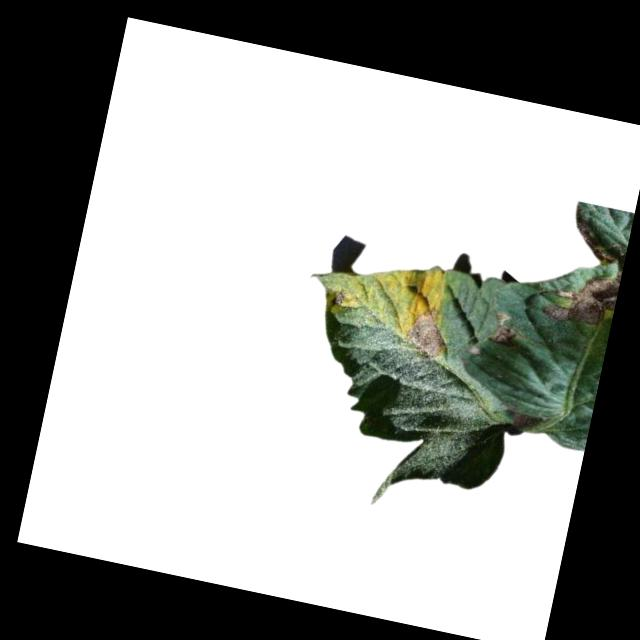Early_blight: (540, 213, 631, 332), (397, 296, 455, 363), (487, 308, 524, 352), (327, 283, 351, 309)
